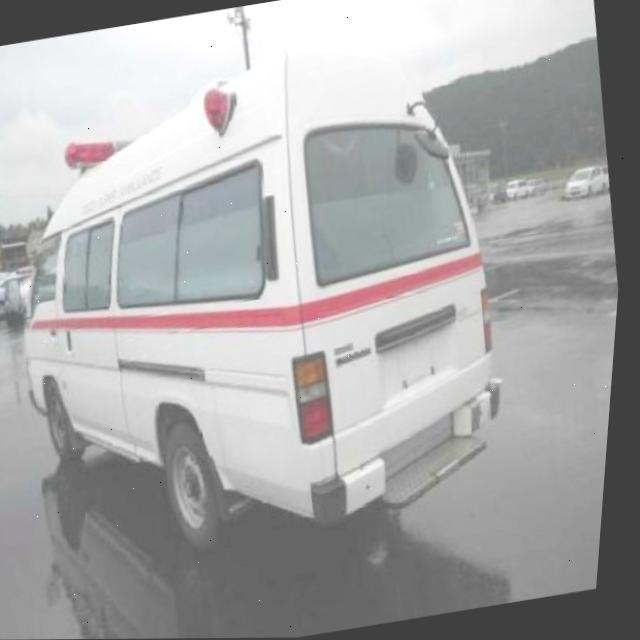emergency: (0, 17, 552, 579)
